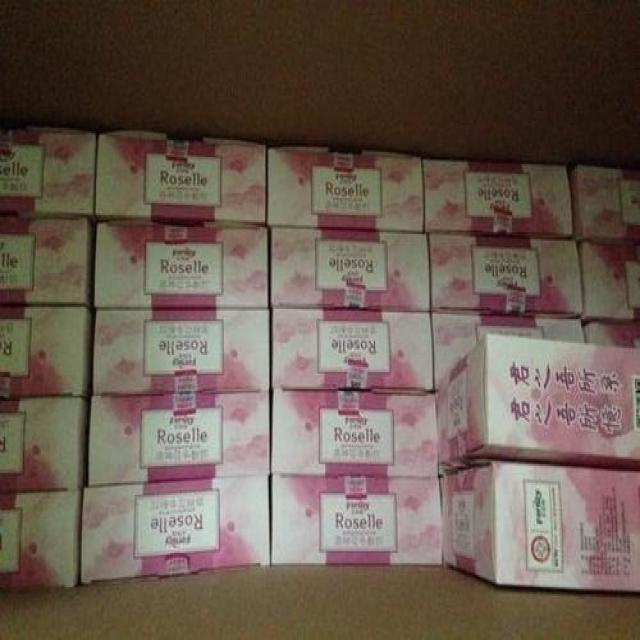box: (436, 333, 640, 474), (440, 459, 640, 596), (81, 473, 269, 585), (88, 391, 271, 483), (92, 309, 270, 398), (95, 218, 269, 309), (271, 476, 443, 568), (97, 130, 266, 222), (271, 391, 438, 476), (273, 307, 435, 393), (271, 227, 431, 311), (268, 147, 424, 230), (428, 232, 584, 314), (424, 157, 573, 237), (431, 314, 586, 384), (0, 305, 92, 399), (0, 126, 96, 215), (0, 215, 92, 307), (0, 399, 90, 492), (0, 490, 83, 587), (570, 166, 640, 242), (579, 244, 640, 323), (582, 323, 640, 350)
